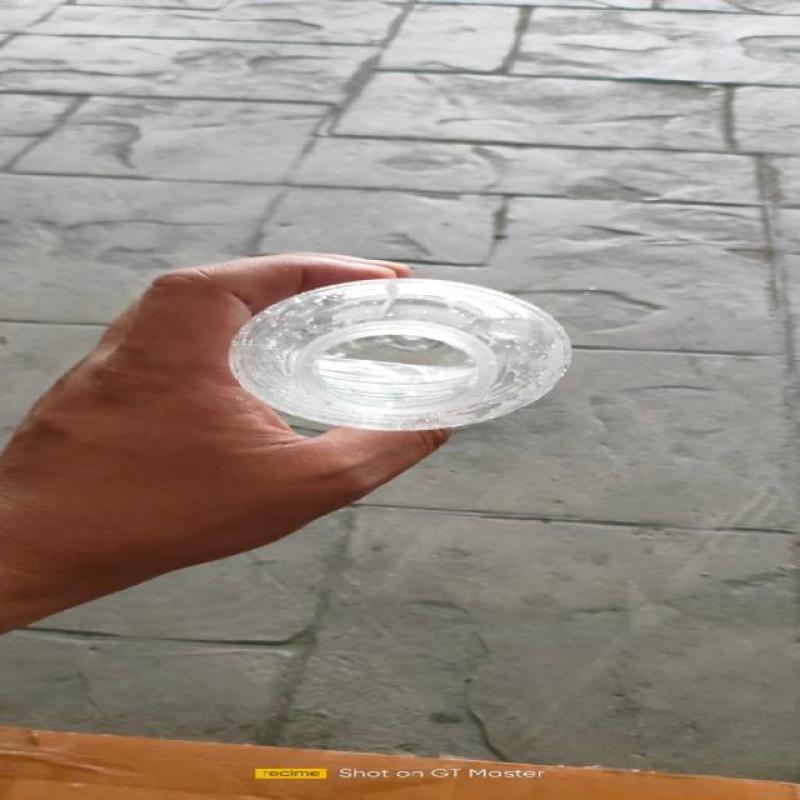botella: (231, 278, 574, 428)
